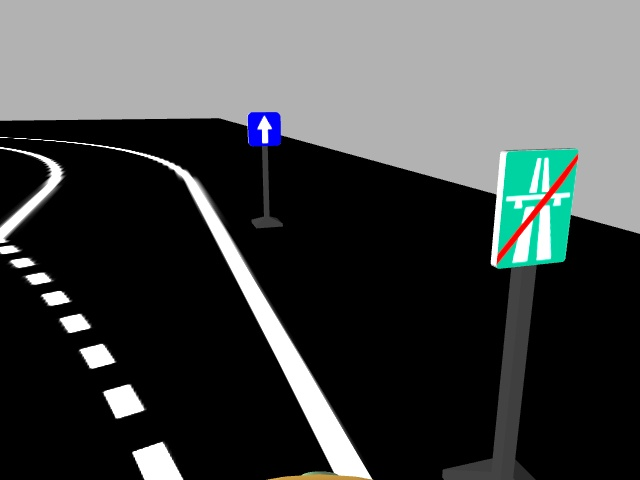HighwayExit: (489, 149, 577, 264)
OneWay: (245, 110, 281, 145)
